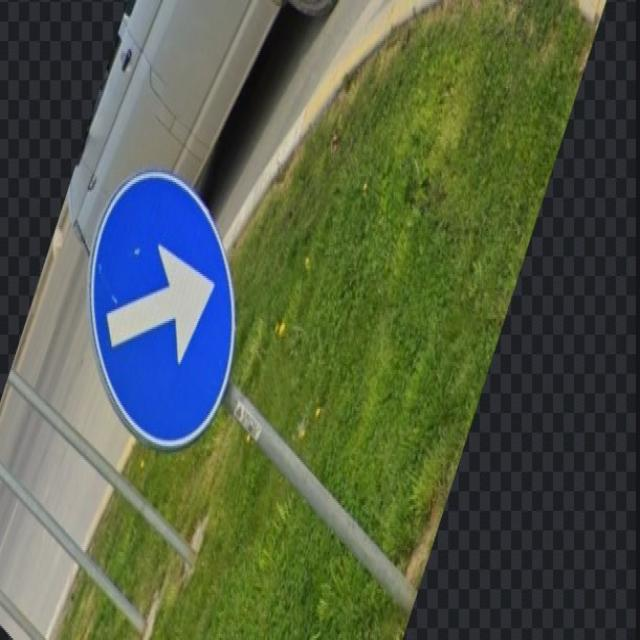Turn Right: (97, 206, 241, 441)
